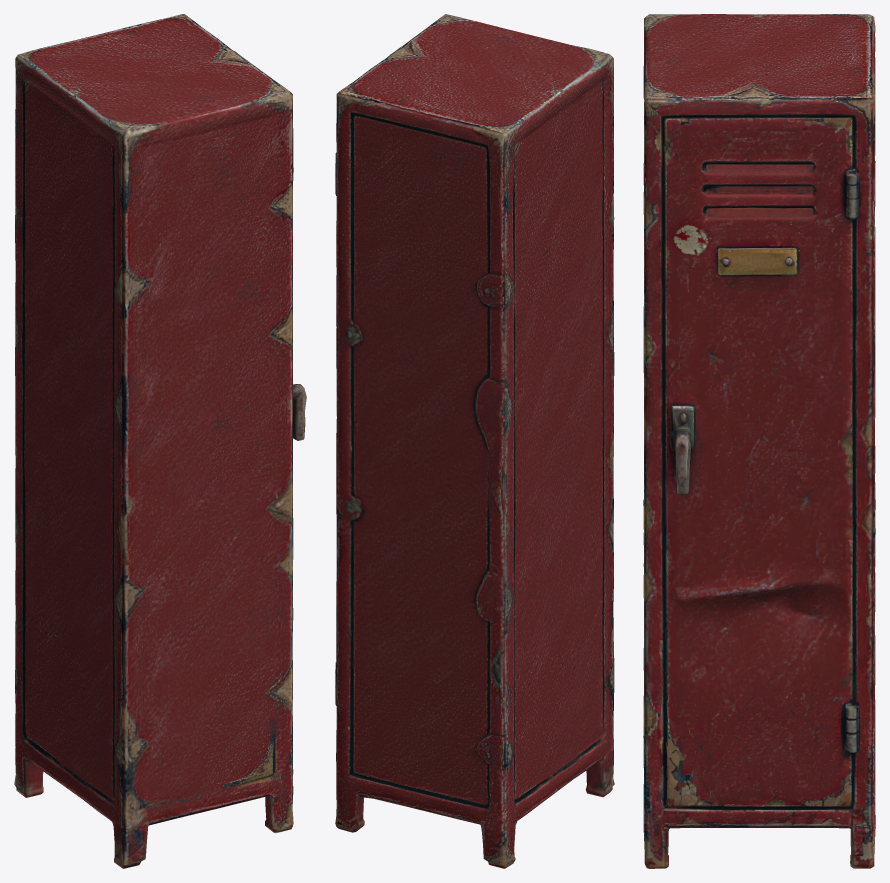
Rendered from SchoolLocker2.fbx.
3 views of the same model, side by side, from view 1: azimuth 30°, elevation 25°; view 2: azimuth 150°, elevation 25°; view 3: azimuth 270°, elevation 25° (orthographic). The views are drawn at different scales.
Parts seen in each view (by area): view 1: tripo_node_1db4fe55-c2be-4f05-a333-9923bb10a30f; view 2: tripo_node_1db4fe55-c2be-4f05-a333-9923bb10a30f; view 3: tripo_node_1db4fe55-c2be-4f05-a333-9923bb10a30f.
Part boxes in pixels (x1=…): tripo_node_1db4fe55-c2be-4f05-a333-9923bb10a30f: x1=14, y1=14, x2=306, y2=868; tripo_node_1db4fe55-c2be-4f05-a333-9923bb10a30f: x1=335, y1=14, x2=614, y2=868; tripo_node_1db4fe55-c2be-4f05-a333-9923bb10a30f: x1=643, y1=14, x2=875, y2=868.
Size of the model in its own units: 28.31 by 100 by 27.32.
Materials: 1 (1 with a texture image).
